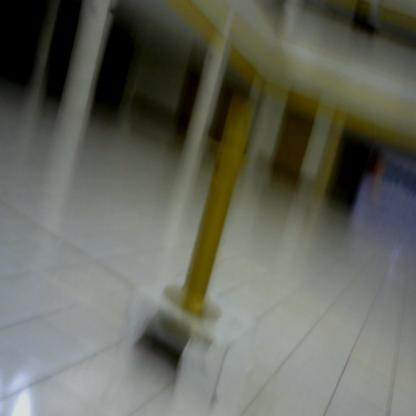pole: (164, 86, 270, 356)
